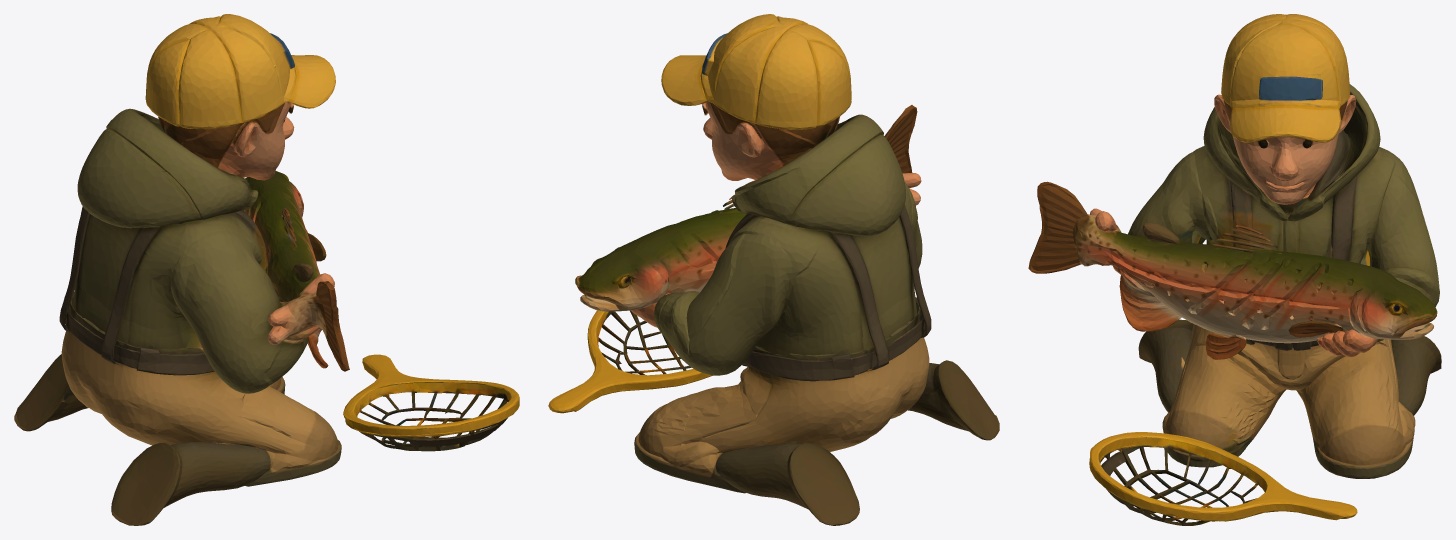
File: pesca_deportiva.glb
The picture shows the model from 3 angles, left to right: view 1: azimuth 30°, elevation 25°; view 2: azimuth 150°, elevation 25°; view 3: azimuth 270°, elevation 25°; orthographic projection.
Visible parts, largest first — view 1: tripo_node_a6db5878-5adb-4330-a4ca-75333c8582a4; view 2: tripo_node_a6db5878-5adb-4330-a4ca-75333c8582a4; view 3: tripo_node_a6db5878-5adb-4330-a4ca-75333c8582a4.
Part boxes in pixels (<box>): tripo_node_a6db5878-5adb-4330-a4ca-75333c8582a4: <box>14,14,519,525</box>; tripo_node_a6db5878-5adb-4330-a4ca-75333c8582a4: <box>548,14,999,525</box>; tripo_node_a6db5878-5adb-4330-a4ca-75333c8582a4: <box>1028,14,1441,525</box>.
Bounding box in the file's own units: 0.986 × 0.9999 × 0.9082.
1 material, 1 textured.
